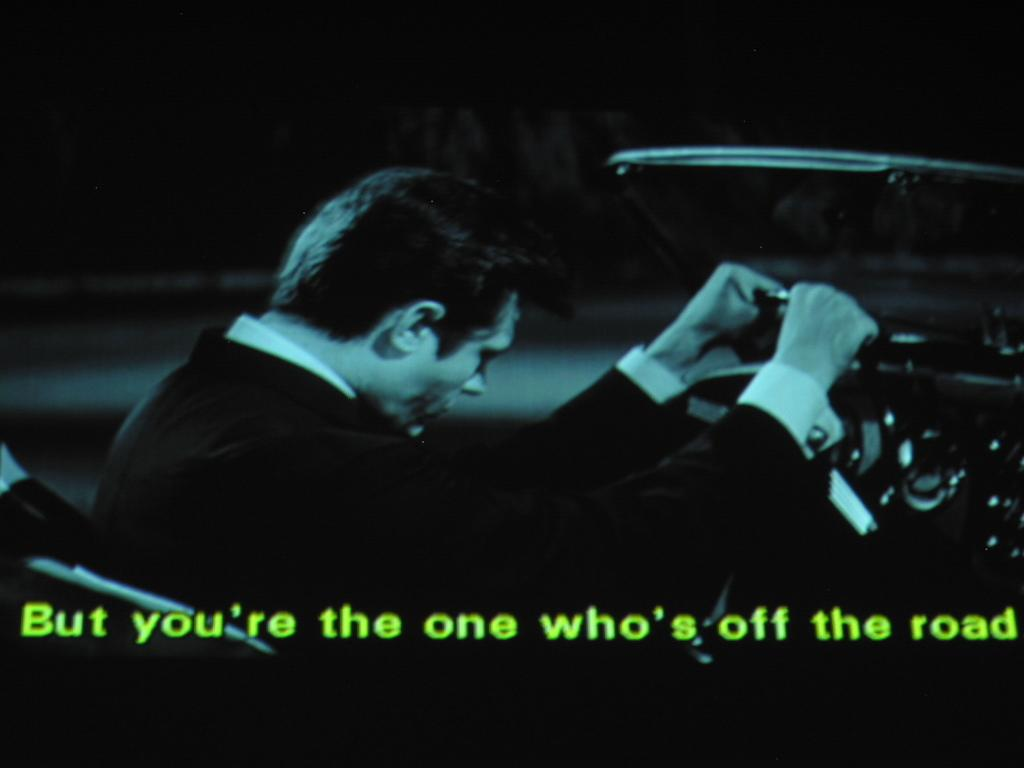Sem Máscara: (366, 303, 521, 439)
